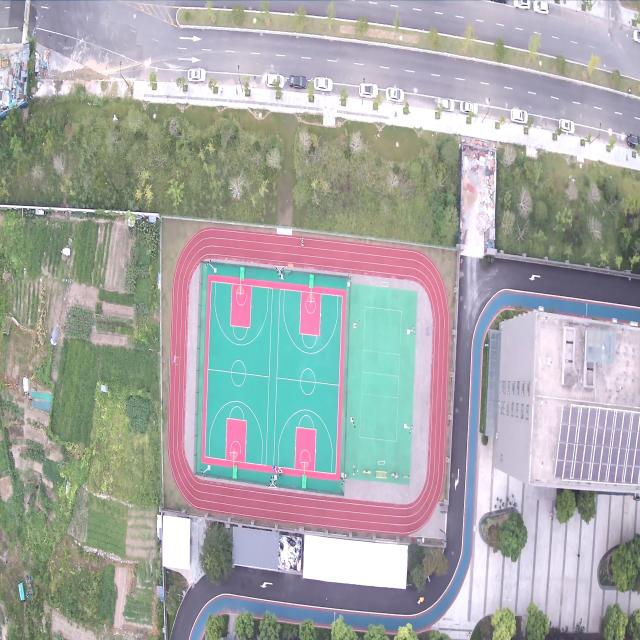UAV: (171, 355, 179, 365)
